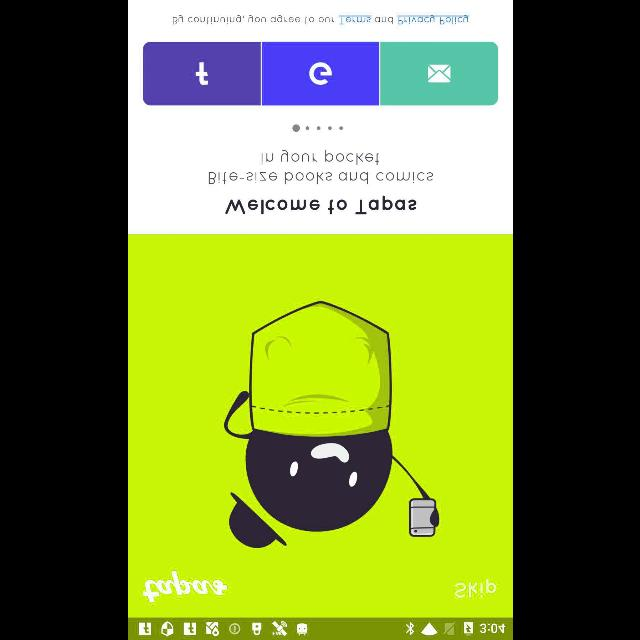icon: (142, 42, 260, 106), (379, 42, 496, 106), (262, 42, 378, 106)
image: (223, 301, 439, 549), (142, 570, 226, 602)
pageindicator: (292, 124, 342, 132)
text: (208, 150, 432, 184), (224, 196, 416, 214), (172, 16, 468, 24)
textbutton: (454, 578, 496, 598)
uppertaskbar: (128, 617, 512, 639)
